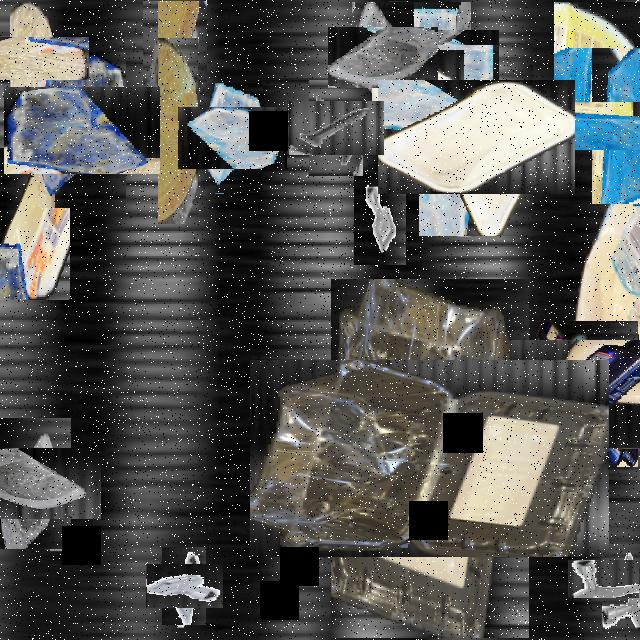glass: (21, 69, 143, 191), (428, 441, 534, 547), (385, 16, 485, 116), (0, 432, 86, 534), (565, 74, 640, 177), (189, 96, 275, 182), (340, 14, 426, 100), (143, 1, 207, 116)
metal: (298, 90, 374, 166), (354, 172, 406, 265), (584, 543, 640, 615), (153, 556, 214, 617), (0, 207, 21, 247)
plastic: (291, 319, 569, 598), (398, 59, 554, 215), (568, 153, 640, 462), (519, 330, 640, 458), (554, 2, 640, 140), (0, 148, 70, 300)
wood: (122, 75, 234, 188), (0, 19, 71, 98)
